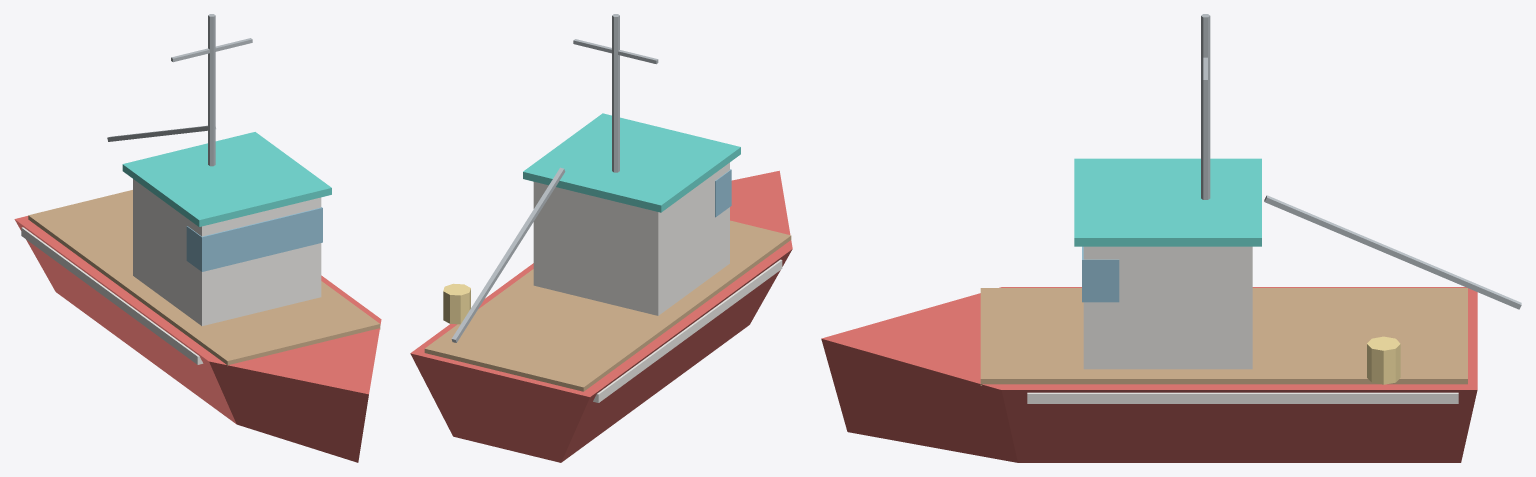
The model's file is FishingBoat.fbx.
The picture shows the model from 3 angles, left to right: view 1: azimuth 30°, elevation 25°; view 2: azimuth 150°, elevation 25°; view 3: azimuth 270°, elevation 25°; orthographic projection. The views are drawn at different scales.
Visible parts, largest first — view 1: FishingBoat; view 2: FishingBoat; view 3: FishingBoat.
Boxes of the visible parts, bbox=[...] form: FishingBoat: bbox=[14, 14, 381, 462]; FishingBoat: bbox=[410, 14, 792, 462]; FishingBoat: bbox=[821, 14, 1521, 462].
Bounding box in the file's own units: 2.69 × 4.9 × 7.47.
